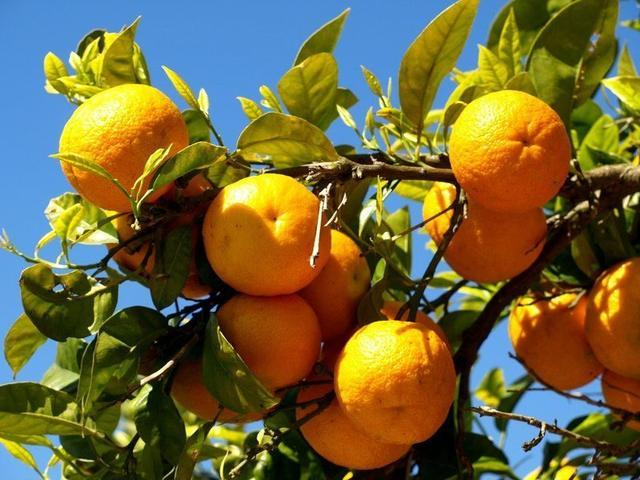orange: (108, 162, 228, 299), (57, 84, 189, 208), (205, 173, 333, 295), (335, 320, 457, 445), (448, 90, 570, 215), (422, 168, 547, 282), (294, 352, 409, 469), (168, 314, 286, 424), (267, 224, 371, 342), (210, 290, 320, 391), (508, 280, 608, 391), (587, 263, 640, 371), (602, 359, 640, 424)
